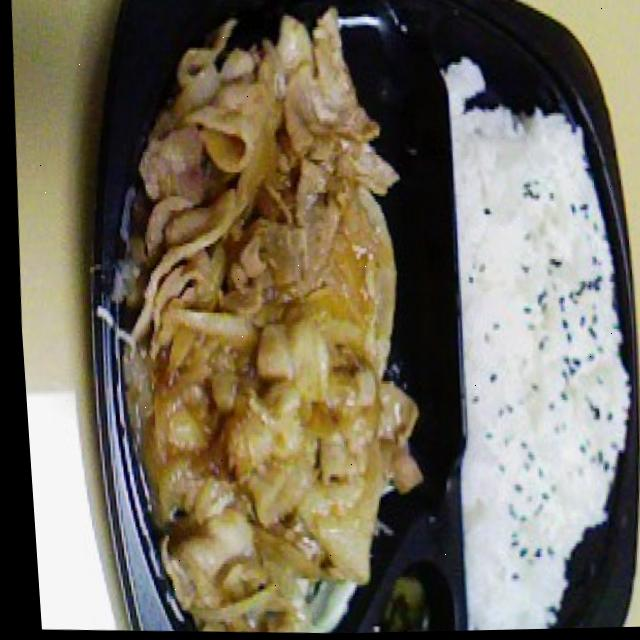猪肉菜式: (73, 0, 447, 639)
